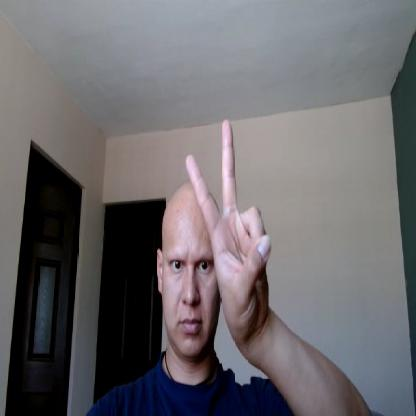V: (187, 120, 272, 345)
